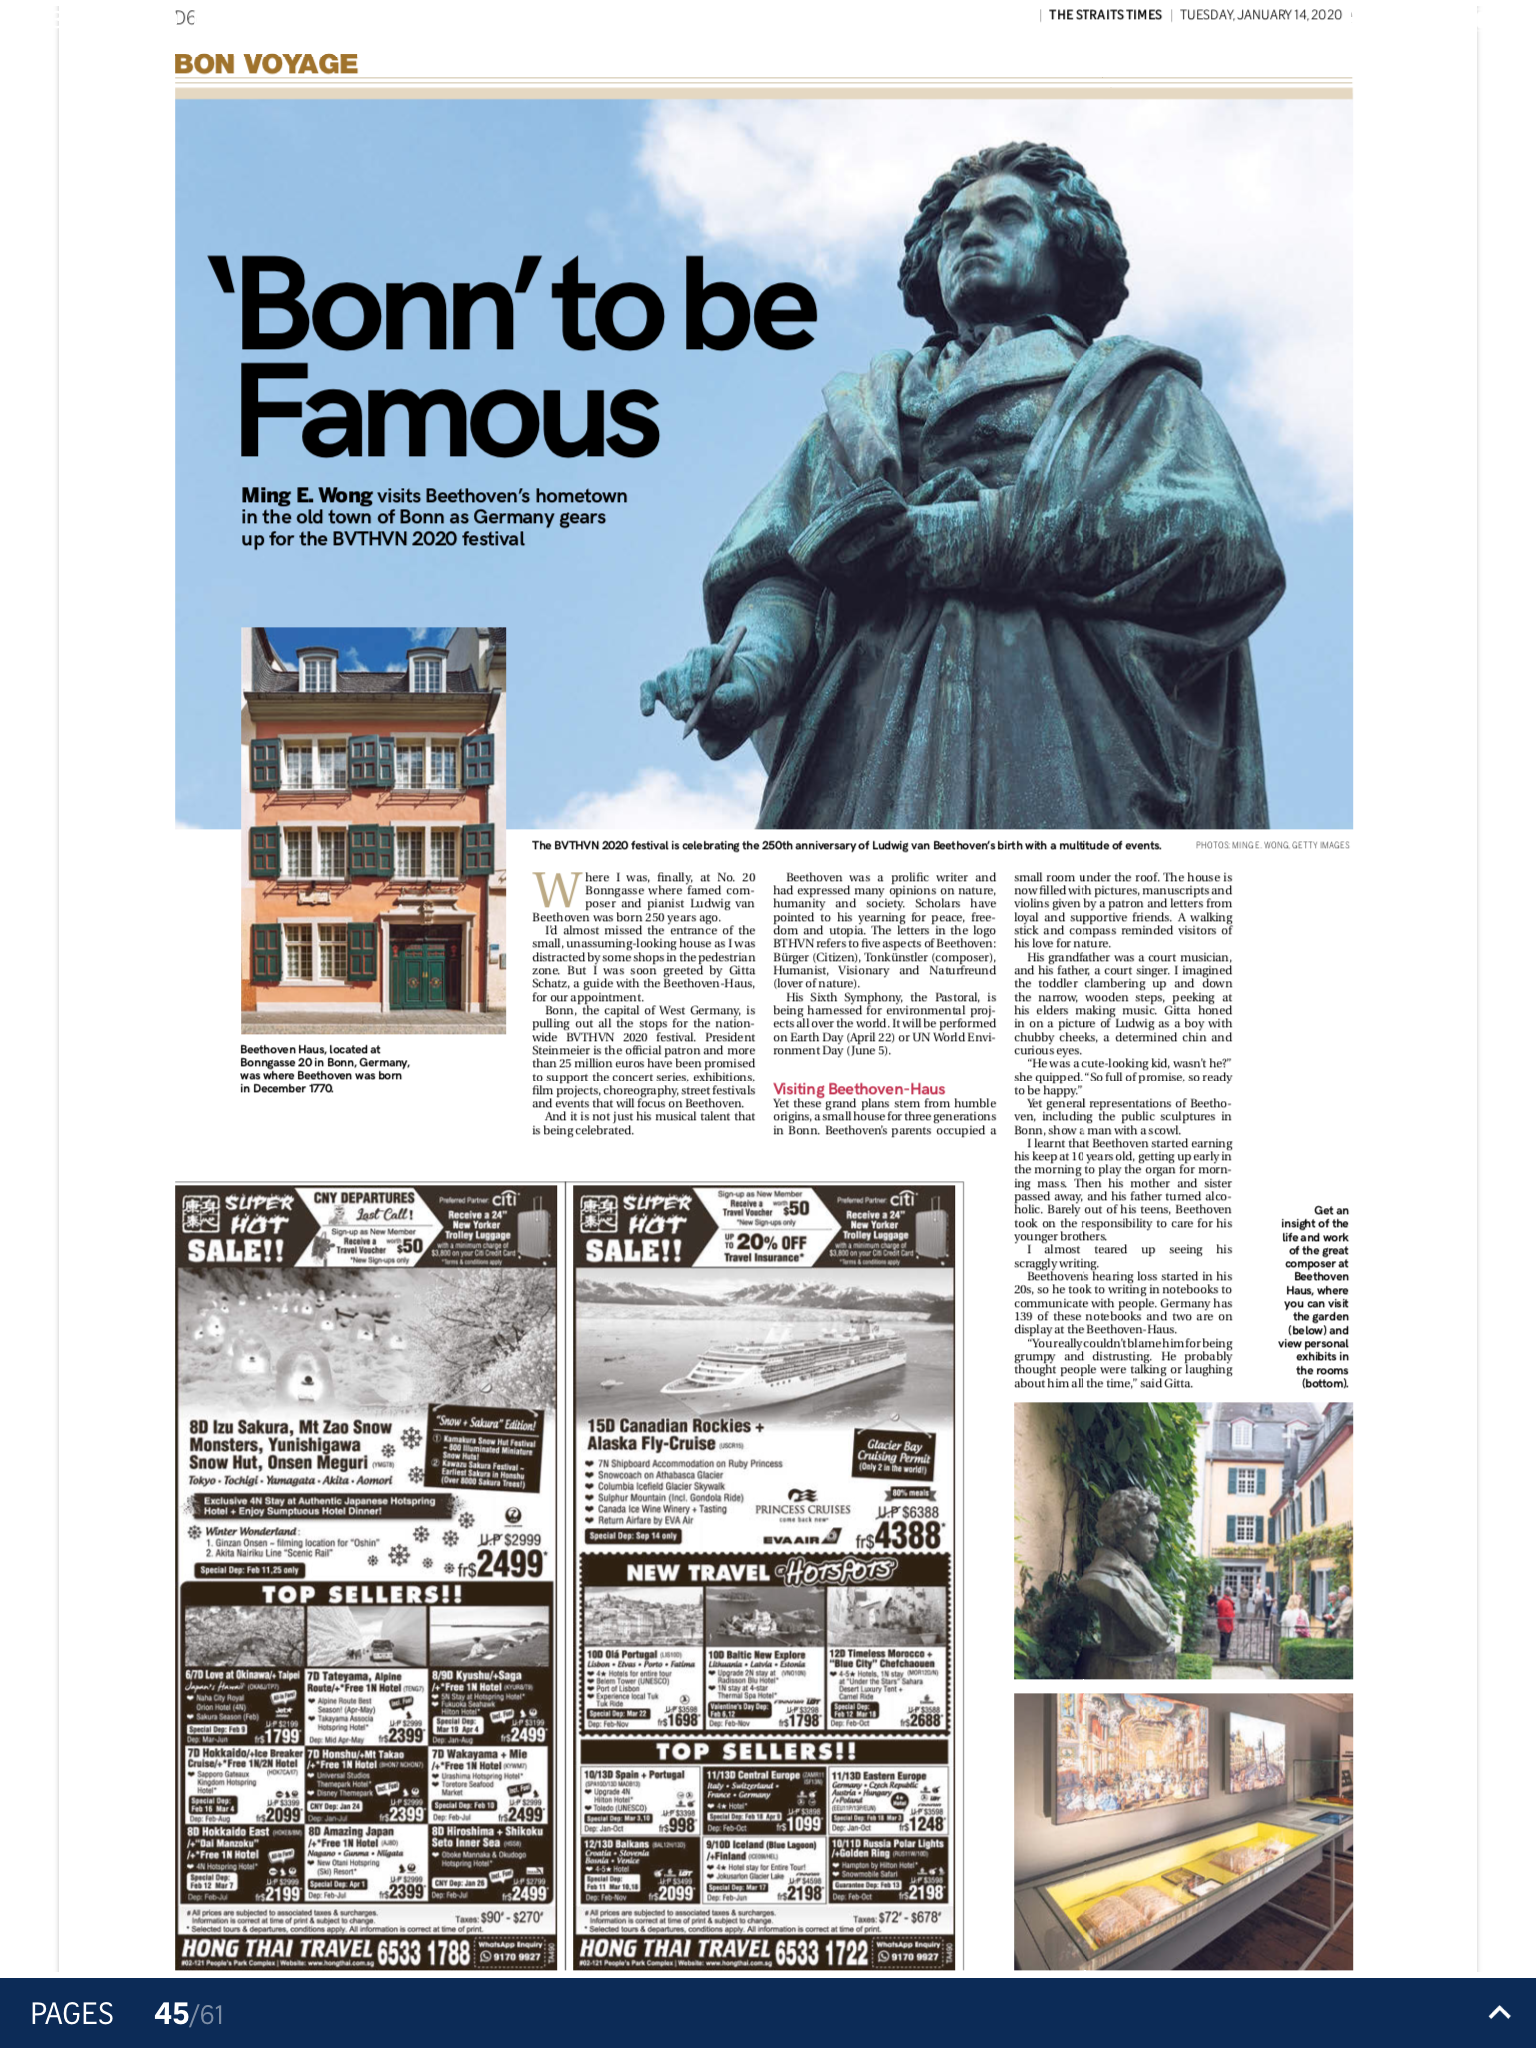Byline: (240, 485, 374, 510)
Headline: (207, 255, 820, 463)
Illustration: (1276, 1205, 1352, 1390), (239, 1043, 410, 1095), (532, 839, 1167, 851), (1192, 839, 1352, 851)
Image: (176, 97, 1355, 827), (574, 1185, 957, 1972), (176, 1185, 557, 1969), (240, 627, 507, 1035), (1013, 1693, 1354, 1971), (1013, 1405, 1354, 1679)
Text: (1010, 871, 1238, 1393), (532, 869, 758, 1135), (770, 871, 999, 1059), (240, 485, 628, 548), (770, 1077, 999, 1142)
